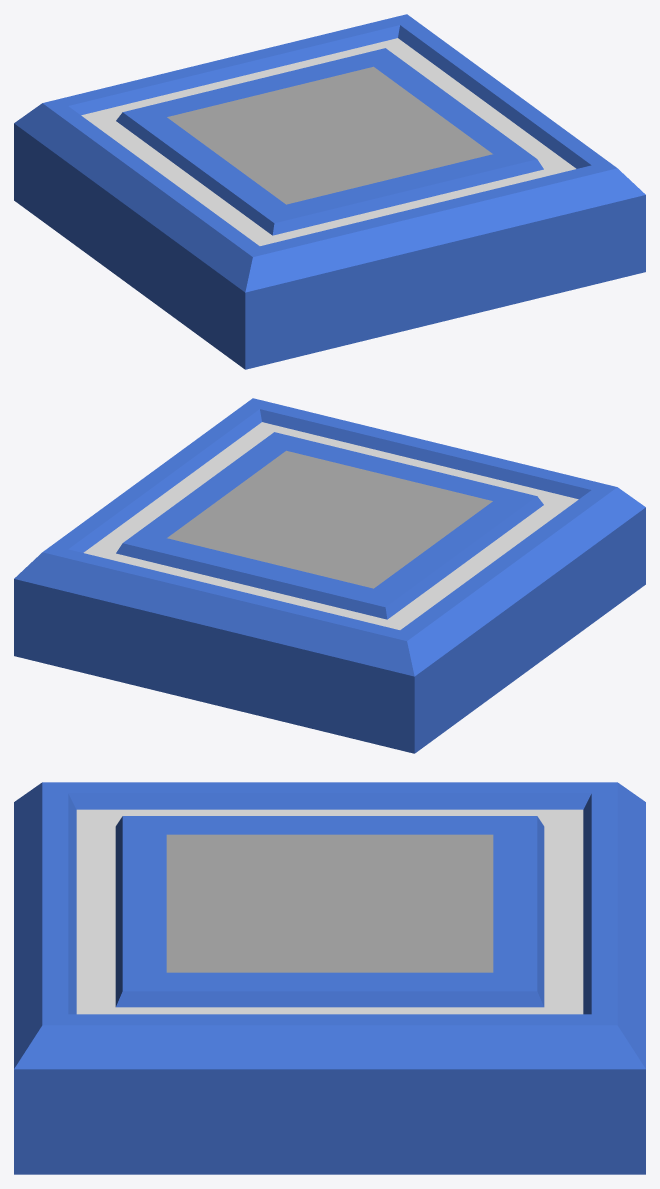
File: GEO_Special_Tile.fbx
3 renders of one model, top to bottom at view 1: azimuth 30°, elevation 25°; view 2: azimuth 150°, elevation 25°; view 3: azimuth 270°, elevation 25°, orthographic. The views are drawn at different scales.
Visible parts, largest first — view 1: Floor_Tile; view 2: Floor_Tile; view 3: Floor_Tile.
Part boxes in pixels (x1=…): Floor_Tile: x1=14, y1=14, x2=645, y2=369; Floor_Tile: x1=14, y1=398, x2=645, y2=753; Floor_Tile: x1=14, y1=782, x2=645, y2=1174.
Bounding box in the file's own units: 100 × 23.99 × 100.
